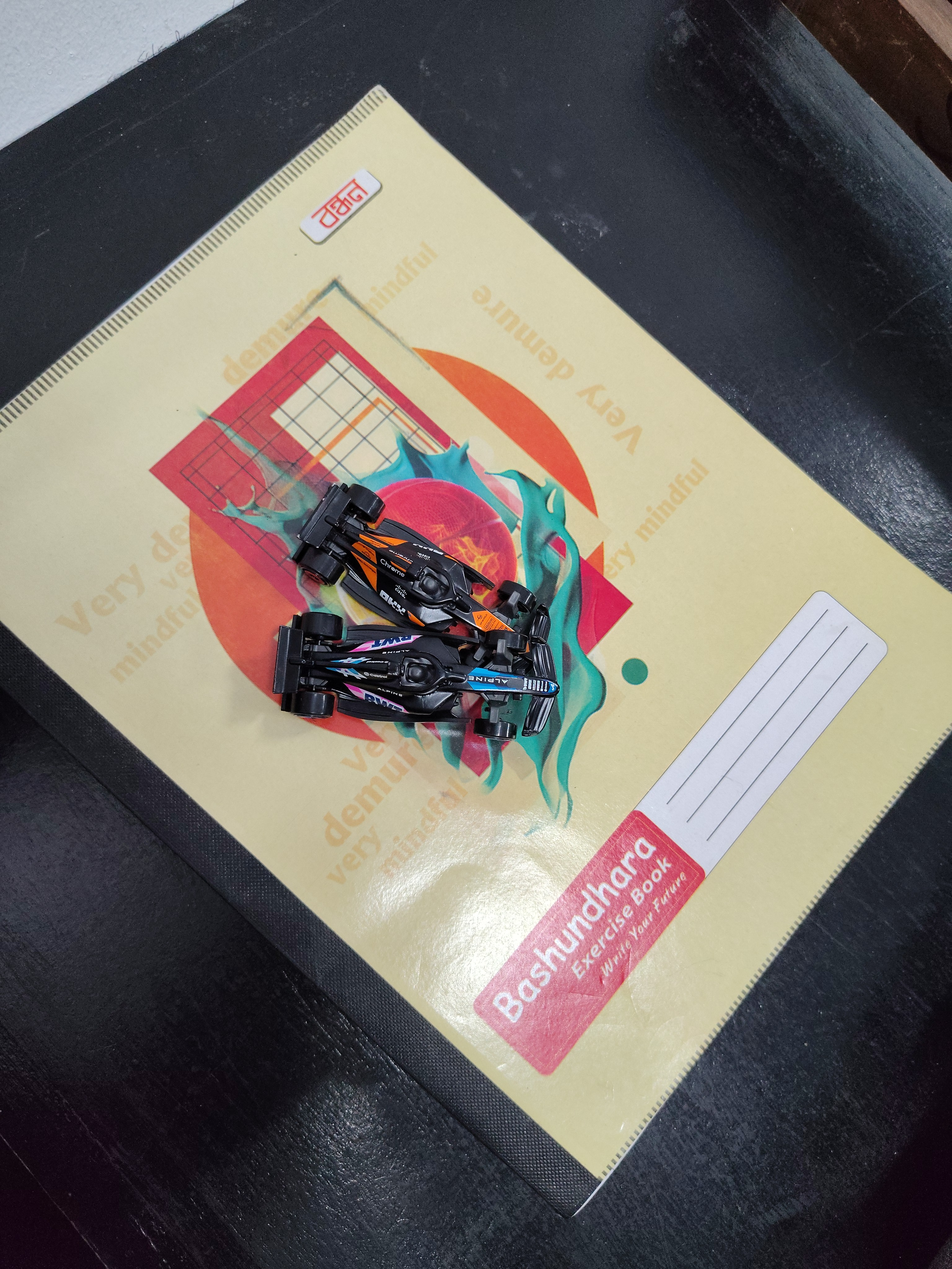Alpine A524: (232, 595, 569, 757)
McLaren MCL40: (263, 414, 603, 641)
